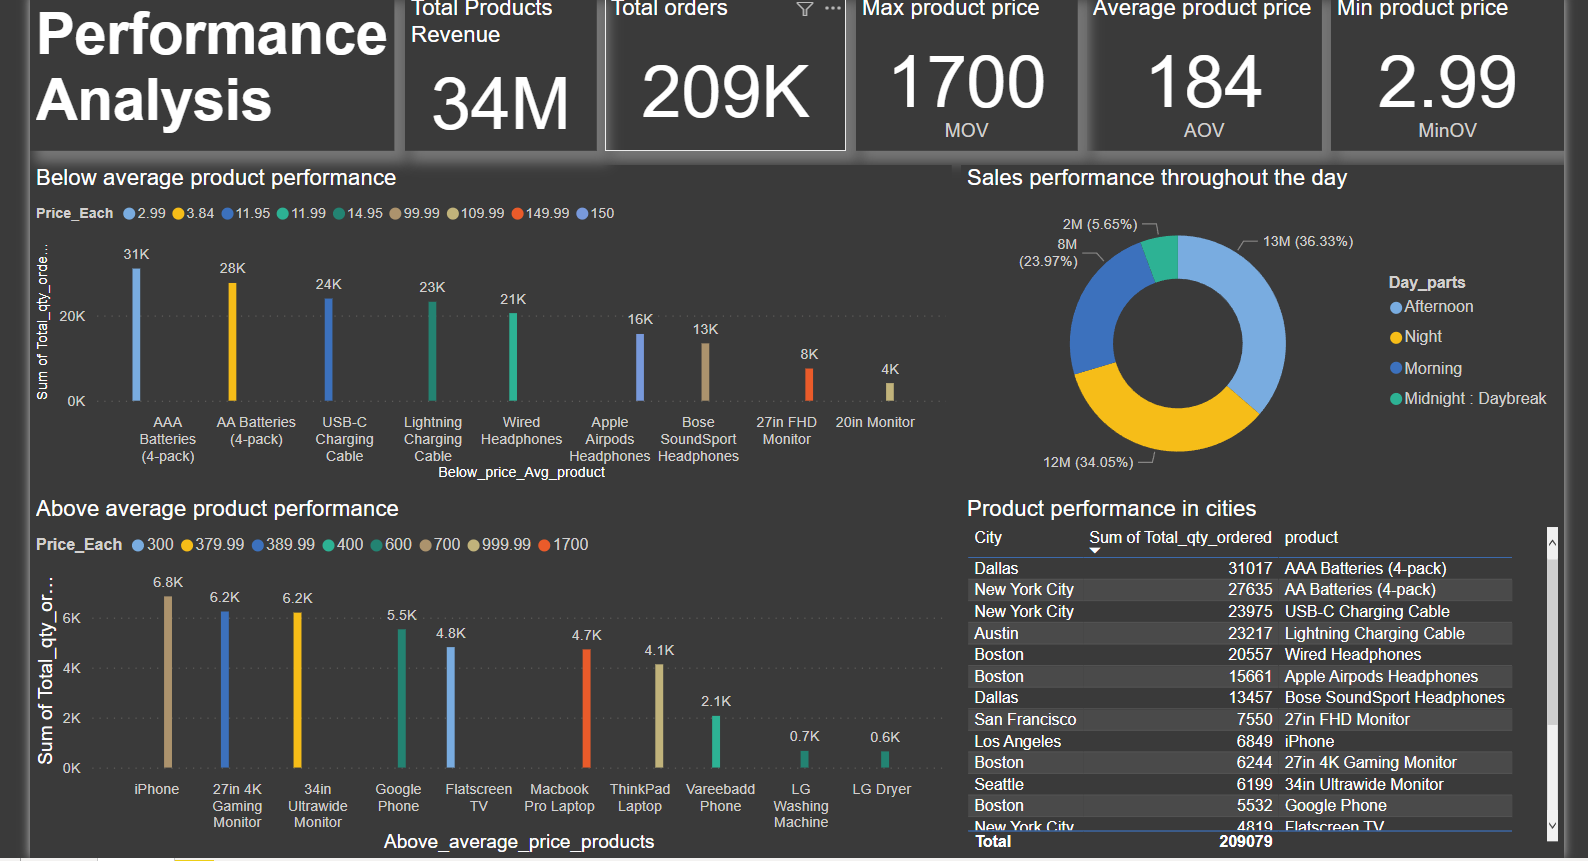

The page's visual inventory and layout, read from the dashboard file:
{"tool":"powerbi","page":{"name":"Page 2","canvas":[1280,720],"ordinal":1},"visuals":[{"type":"card","title":"Total orders","fields":{"Values":["Sum(product_performance.Total_qty_ordered)"]},"box":[479.6,0,201,130.2],"z":0},{"type":"card","title":"Average product price","fields":{"Values":["Sum(Satatistics fro product price.AOV)"]},"box":[881.5,0,195.8,130.2],"z":1000},{"type":"card","title":"Min product price","fields":{"Values":["Sum(Satatistics fro product price.MinOV)"]},"box":[1085.1,0,194.9,130.2],"z":2000},{"type":"card","title":"Max product price","fields":{"Values":["Sum(Satatistics fro product price.MOV)"]},"box":[689.2,0,184.6,130.2],"z":3000},{"type":"clusteredColumnChart","title":"Above average product performance","fields":{"Category":["orders_above_average_price.Above_average_price_products"],"Y":["Sum(orders_above_average_price.Total_qty_ordered)"],"Series":["orders_above_average_price.Price_Each"]},"box":[0,418.3,769.4,301.9],"z":4000},{"type":"clusteredColumnChart","title":"Below average product performance","fields":{"Category":["orders_below_average_price.Below_price_Avg_product"],"Y":["Sum(orders_below_average_price.Total_qty_ordered)"],"Series":["orders_below_average_price.Price_Each"]},"box":[0,141.8,769.2,268.6],"z":5000},{"type":"tableEx","title":"Product performance in cities","fields":{"Values":["Sales_by_city.City","Sum(product_performance.Total_qty_ordered)","product_performance.product"]},"box":[777.1,418.3,502.9,301.9],"z":6000},{"type":"donutChart","title":"Sales performance throughout the day","fields":{"Y":["Sum(Days_Parts_sales.Total_sales)"],"Category":["Days_Parts_sales.Day_parts"]},"box":[777.1,141.5,502.9,276.9],"z":7000},{"type":"textbox","box":[0,0,304.5,130.2],"z":8000},{"type":"card","title":"Product Revenue","fields":{"Values":["Sum(product_performance.Total_product_Rev)"]},"box":[313.1,0,159.6,130.2],"z":9000}]}

Visuals, with their boxes on the page's 1280x720 design canvas (x1, y1, x2, y2). These are canvas units, not pixel positions in the 1588x861 screenshot, which may show the page scaled, cropped or inside an application window:
"Total orders" card: left=480, top=0, right=681, bottom=130
"Average product price" card: left=882, top=0, right=1077, bottom=130
"Min product price" card: left=1085, top=0, right=1280, bottom=130
"Max product price" card: left=689, top=0, right=874, bottom=130
"Above average product performance" clusteredColumnChart: left=0, top=418, right=769, bottom=720
"Below average product performance" clusteredColumnChart: left=0, top=142, right=769, bottom=410
"Product performance in cities" tableEx: left=777, top=418, right=1280, bottom=720
"Sales performance throughout the day" donutChart: left=777, top=142, right=1280, bottom=418
textbox: left=0, top=0, right=304, bottom=130
"Product Revenue" card: left=313, top=0, right=473, bottom=130
